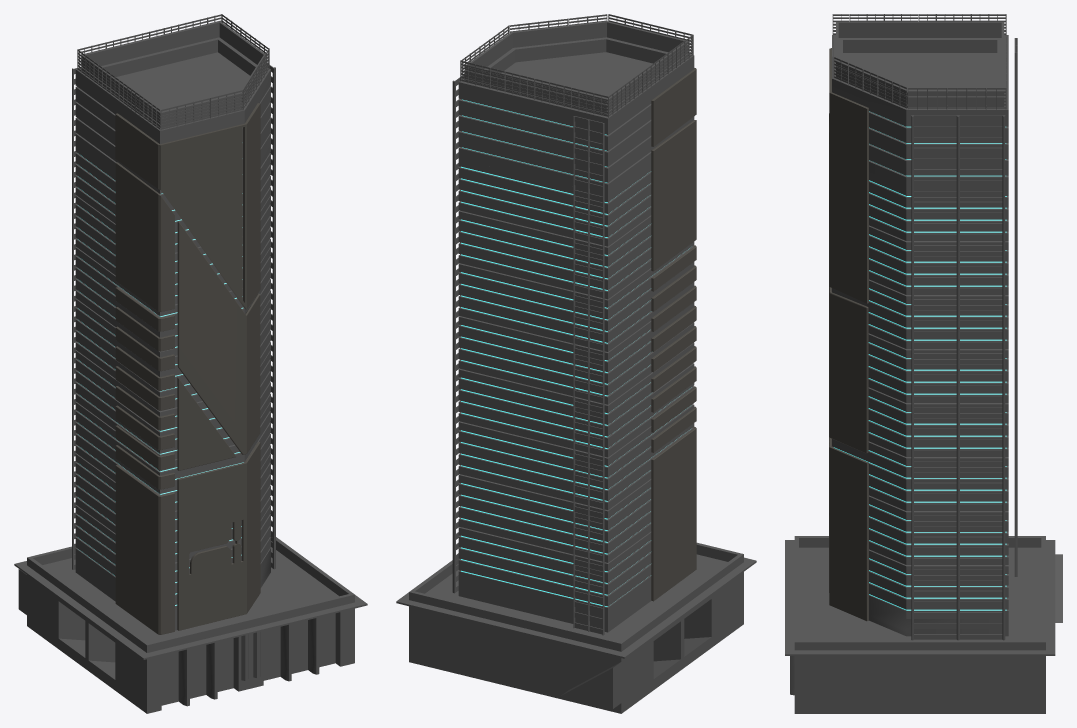
The picture shows the model from 3 angles, left to right: view 1: azimuth 30°, elevation 25°; view 2: azimuth 150°, elevation 25°; view 3: azimuth 270°, elevation 25°; orthographic projection. The views are drawn at different scales.
Visible parts, largest first — view 1: polySurface19, polySurface4, polySurface20, polySurface46, polySurface24, polySurface47, polySurface22, polySurface52, polySurface51, polySurface49, polySurface50, polySurface53 (+17 smaller); view 2: polySurface19, polySurface4, polySurface51, polySurface49, polySurface52, polySurface50, polySurface48, polySurface54, polySurface53, polySurface6, polySurface47, polySurface22 (+23 smaller); view 3: polySurface19, polySurface4, polySurface20, polySurface46, polySurface24, polySurface52, polySurface49, polySurface51, polySurface50, polySurface48, polySurface53, polySurface6 (+12 smaller).
Boxes of the visible parts, x1,y1,x2,y2 form: polySurface19: (14,536,367,713); polySurface4: (75,21,270,203); polySurface20: (115,103,260,309); polySurface46: (177,442,260,630); polySurface24: (177,221,260,454); polySurface47: (115,465,174,634); polySurface22: (115,162,174,311); polySurface52: (75,402,270,510); polySurface51: (75,350,270,459); polySurface49: (75,247,270,357); polySurface50: (75,298,270,411); polySurface53: (75,453,270,562); polySurface19: (396,542,756,713); polySurface4: (458,21,694,194); polySurface51: (458,343,694,457); polySurface49: (458,242,694,351); polySurface52: (458,403,694,509); polySurface50: (458,302,694,404); polySurface48: (458,210,651,299); polySurface54: (458,527,651,615); polySurface53: (458,474,651,562); polySurface6: (458,159,651,246); polySurface47: (651,426,696,601); polySurface22: (651,120,696,271); polySurface19: (785,536,1062,713); polySurface4: (832,21,1008,188); polySurface20: (829,48,868,303); polySurface46: (829,436,868,621); polySurface24: (829,144,868,453); polySurface52: (832,439,1008,510); polySurface49: (832,279,1008,348); polySurface51: (868,387,1008,456); polySurface50: (868,333,1008,402); polySurface48: (869,225,1008,294); polySurface53: (869,495,1008,564); polySurface6: (869,172,1008,240).
Size of what is drawn, in the model's own units: 10.45 by 26.16 by 10.74.
